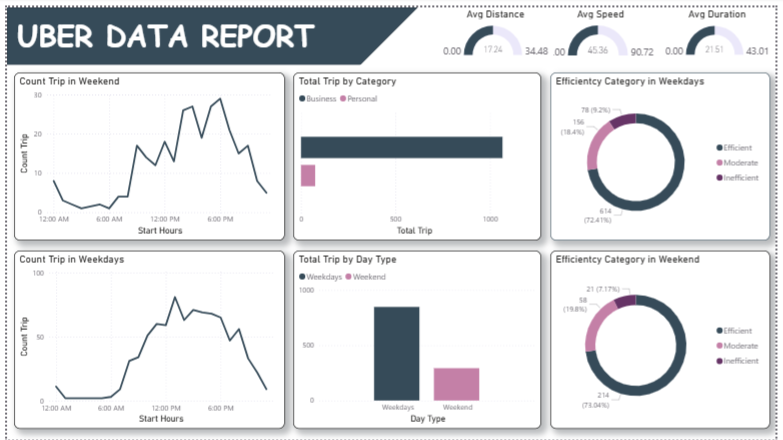

What the dashboard file says about the page in this screenshot:
{"tool":"powerbi","page":{"name":"Page 1","canvas":[1280,720],"ordinal":0},"visuals":[{"type":"shape","box":[0,0,684.3,95.7],"z":0},{"type":"lineChart","title":"Count Trip in Weekend","fields":{"Category":["2a.start_hour"],"Y":["Sum(2a.count_trip_weekend)"]},"box":[11.4,108.6,451.4,280],"z":1000},{"type":"lineChart","title":"Count Trip in Weekdays","fields":{"Category":["2b.start_hour"],"Y":["Sum(2b.count_trip_weekdays)"]},"box":[11.4,405.7,451.4,297.1],"z":2000},{"type":"barChart","title":"Total Trip by Category","fields":{"Category":["1a.category"],"Y":["Sum(1a.Total_trip)"],"Series":["1a.category"]},"box":[477.1,108.6,412.9,280],"z":3000},{"type":"columnChart","title":"Total Trip by Day Type","fields":{"Category":["1a.day_type"],"Y":["Sum(1a.Total_trip)"],"Series":["1a.day_type"]},"box":[477.1,405.7,412.9,297.1],"z":4000},{"type":"donutChart","title":"Efficientcy Category in Weekdays","fields":{"Category":["2c.Efficient_Category"],"Y":["Sum(2c.Total_trip)"],"Series":["2c.day_type"]},"box":[904.3,108.6,365.7,280],"z":5000},{"type":"donutChart","title":"Efficientcy Category in Weekend","fields":{"Category":["2c.Efficient_Category"],"Y":["Sum(2c.Total_trip)"],"Series":["2c.day_type"]},"box":[904.3,405.7,365.7,297.1],"z":6000},{"type":"textbox","box":[11.4,7.1,530,81.4],"z":7000},{"type":"gauge","fields":{"Y":["Avg(2c.avg_speed_kmh)"]},"box":[890,0,197.1,95.7],"z":8000},{"type":"gauge","fields":{"Y":["Avg(2c.avg_distance_km)"]},"box":[717.1,0,194.3,95.7],"z":9000},{"type":"gauge","fields":{"Y":["Avg(2c.avg_duration_minutes)"]},"box":[1087.1,0,192.9,95.7],"z":9001}]}

Visuals, with their boxes in screenshot pixels (x1, y1, x2, y2), scaled from the page's 1280x720 canvas onto the 783x440 screenshot:
shape: [0, 0, 419, 58]
"Count Trip in Weekend" lineChart: [7, 66, 283, 237]
"Count Trip in Weekdays" lineChart: [7, 248, 283, 429]
"Total Trip by Category" barChart: [292, 66, 544, 237]
"Total Trip by Day Type" columnChart: [292, 248, 544, 429]
"Efficientcy Category in Weekdays" donutChart: [553, 66, 777, 237]
"Efficientcy Category in Weekend" donutChart: [553, 248, 777, 429]
textbox: [7, 4, 331, 54]
gauge - Avg(2c.avg_speed_kmh): [544, 0, 665, 58]
gauge - Avg(2c.avg_distance_km): [439, 0, 558, 58]
gauge - Avg(2c.avg_duration_minutes): [665, 0, 782, 58]
